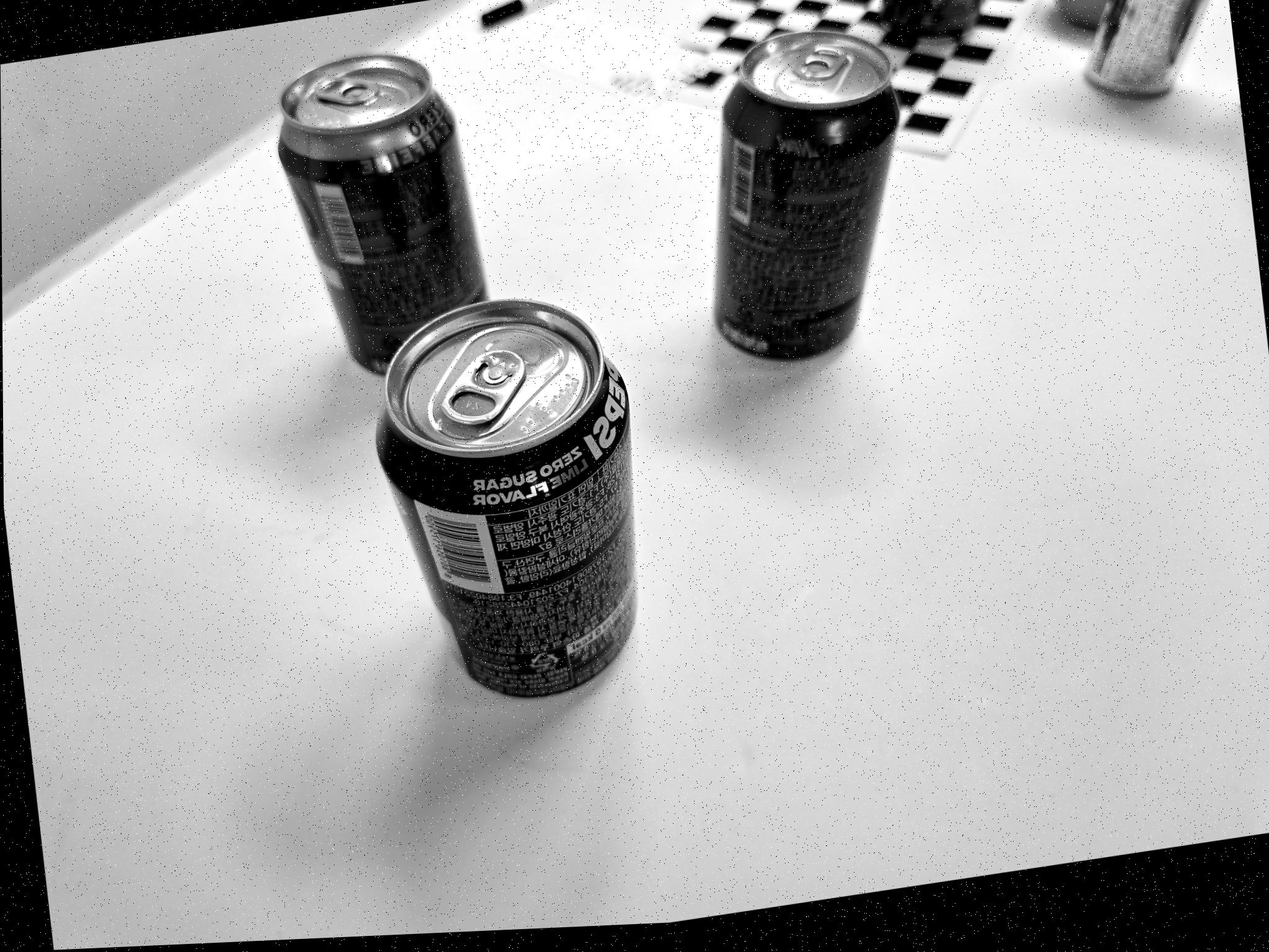can_coke_decaf: (273, 52, 496, 383)
can_coke_zero: (704, 36, 908, 367)
can_pepsi_zero: (370, 297, 647, 702)
